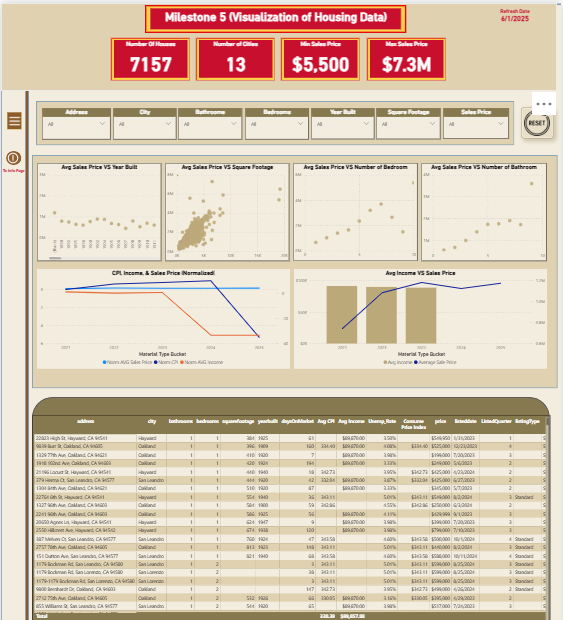

The page's visual inventory and layout, read from the dashboard file:
{"tool":"powerbi","page":{"name":"Milestone 5 House Pricing Analysis","canvas":[1600,2000],"ordinal":0},"visuals":[{"type":"shape","box":[0,0,1588.6,250.1],"z":0,"group":"g11"},{"type":"shape","box":[411.7,6.5,746.5,80.1],"z":0,"group":"g9"},{"type":"shape","box":[314.3,99.1,224,120.9],"z":0,"group":"g6"},{"type":"shape","box":[557.6,99.1,224,120.9],"z":0,"group":"g3"},{"type":"shape","box":[801.2,99.1,224,120.9],"z":0,"group":"g1"},{"type":"shape","box":[1044.7,99.1,224,120.9],"z":0,"group":"g5"},{"type":"shape","box":[99.8,281,1366.5,126.3],"z":0,"group":"g8"},{"type":"shape","box":[87.5,434.4,1501.1,666.3],"z":0},{"type":"actionButton","box":[87.2,1125.7,1479.5,659],"z":0,"group":"g7"},{"type":"textbox","box":[426.9,15.4,717.8,62.2],"z":1000,"group":"g9"},{"type":"group","id":"g1","title":"Group 2","box":[801.2,99.1,224.3,120],"z":1000,"group":"g11"},{"type":"card","title":"Number Of Houses","fields":{"Values":["Count(Combine Project Data.address)"]},"box":[322.1,105.8,210,107.8],"z":1000,"group":"g6"},{"type":"card","title":"Number of Cities","fields":{"Values":["Count(Combine Project Data.city)"]},"box":[565.4,105.8,210,107.8],"z":1000,"group":"g3"},{"type":"card","title":"Min Sales Price","fields":{"Values":["Min(Combine Project Data.price)"]},"box":[809,105.8,210,107.8],"z":1000,"group":"g1"},{"type":"card","title":"Max Sales Price","fields":{"Values":["Max(Combine Project Data.price)"]},"box":[1052.5,105.8,210,107.8],"z":1000,"group":"g5"},{"type":"slicer","title":"Address","fields":{"Values":["Combine Project Data.address"]},"box":[118.1,302.1,195.5,89.6],"z":1000,"group":"g8"},{"type":"actionButton","title":"Menu Button","box":[16,310,42,50],"z":1000},{"type":"group","id":"g2","title":"Group 4","box":[103.6,759.7,723,285.3],"z":1000,"group":"g10"},{"type":"tableEx","fields":{"Values":["Combine Project Data.address","Combine Project Data.city","Combine Project Data.bathrooms","Combine Project Data.bedrooms","Combine Project Data.squarefootage","Combine Project Data.yearbuilt","Combine Project Data.daysOnMarket","Combine Project Data.Avg CPI","Combine Project Data.Avg Income","Combine Project Data.Unemp_Rate","Combine Project Data.CCPI_All_Urban_Consumers","Combine Project Data.price"]},"box":[87.1,1178.3,1480.8,600],"z":1000,"group":"g7"},{"type":"group","id":"g3","title":"Group 2","box":[557.6,99.1,224.3,120],"z":2000,"group":"g11"},{"type":"slicer","title":"Sales Price","fields":{"Values":["Combine Project Data.price"]},"box":[1261.9,302.1,188.3,88],"z":2000,"group":"g8"},{"type":"lineChart","title":"CPI, Income, & Sales Price (Normalized(","fields":{"Category":["Combine Project Data.ListedYear Hierarchy.ListedYear","Combine Project Data.ListedYear Hierarchy.ListedQuarter"],"Y2":["Combine Project Data.Norm AVG Income"],"Y":["Combine Project Data.Norm AVG Sales Price","Combine Project Data.Norm CPI"]},"box":[103.6,759.7,723,285.3],"z":2000,"group":"g2"},{"type":"group","id":"g4","title":"Group 4","box":[838.1,760.3,723,285.3],"z":2000},{"type":"lineClusteredColumnComboChart","title":"Avg Income VS Sales Price","fields":{"Category":["Combine Project Data.ListedYear Hierarchy.ListedYear"],"Y2":["Combine Project Data.Average Sale Price"],"Y":["Combine Project Data.Avg Income"]},"box":[838.1,760.3,723,285.3],"z":2000,"group":"g4"},{"type":"card","title":"Refresh Date","fields":{"Values":["Min(Combine Project Data.RefreshDate)"]},"box":[1354.4,13.2,228.5,44.7],"z":3000,"group":"g11"},{"type":"slicer","title":"City","fields":{"Values":["Combine Project Data.city"]},"box":[319.9,302.1,180.7,89.7],"z":3000,"group":"g8"},{"type":"scatterChart","title":"Avg Sales Price VS Square Footage","fields":{"Y":["Combine Project Data.Average Sale Price"],"X":["Combine Project Data.squarefootage"]},"box":[468.6,456.4,355,280.4],"z":3000},{"type":"group","id":"g5","title":"Group 2","box":[1044.7,99.1,224.3,120],"z":4000,"group":"g11"},{"type":"actionButton","box":[1484.6,297.3,93.7,89.6],"z":4000},{"type":"slicer","title":"Year Built","fields":{"Values":["Combine Project Data.yearbuilt"]},"box":[884.2,302.1,180.7,88.9],"z":4000,"group":"g8"},{"type":"group","id":"g6","title":"Group 2","box":[314.3,99.1,224,120.9],"z":5000,"group":"g11"},{"type":"slicer","title":"Bathroome","fields":{"Values":["Combine Project Data.bathrooms"]},"box":[506.9,302.1,182.7,90.2],"z":5000,"group":"g8"},{"type":"group","id":"g7","title":"Group 1","box":[87.1,1125.7,1481.4,658.6],"z":5000},{"type":"group","id":"g8","title":"Group 3","box":[99.8,281,1366.5,126.3],"z":6000},{"type":"slicer","title":"Bedrooms","fields":{"Values":["Combine Project Data.bedrooms"]},"box":[695.9,302.1,182,90],"z":6000,"group":"g8"},{"type":"group","id":"g9","title":"Group 6","box":[411.7,6.5,748.9,77.8],"z":7000,"group":"g11"},{"type":"slicer","title":"Square Footage","fields":{"Values":["Combine Project Data.squarefootage"]},"box":[1071.2,302.1,184.4,88.9],"z":7000,"group":"g8"},{"type":"group","id":"g10","title":"Group 5","box":[103.6,456.4,1454.3,588.6],"z":7000},{"type":"actionButton","box":[14,424,44,40],"z":8000},{"type":"scatterChart","title":"Avg Sales Price VS Number of Bathroom","fields":{"Y":["Combine Project Data.Average Sale Price"],"X":["Combine Project Data.bedrooms"]},"box":[1199.4,456.4,358.5,280.2],"z":8500},{"type":"group","id":"g11","title":"Group 7","box":[0,0,1588.6,250.1],"z":9000},{"type":"scatterChart","title":"Avg Sales Price VS Number of Bedroom","fields":{"X":["Combine Project Data.bathrooms"],"Y":["Combine Project Data.Average Sale Price"]},"box":[833.5,456.4,356,279.8],"z":10500},{"type":"textbox","box":[0,461.4,82.9,37.1],"z":12000},{"type":"scatterChart","title":"Avg Sales Price VS Year Built","fields":{"Y":["Combine Project Data.Average Sale Price"],"X":["Combine Project Data.yearbuilt"]},"box":[103.7,456.4,355,280.4],"z":13000}]}

Visuals, with their boxes on the page's 1600x2000 design canvas (x1, y1, x2, y2). These are canvas units, not pixel positions in the 563x620 screenshot, which may show the page scaled, cropped or inside an application window:
shape: Rect(0, 0, 1589, 250)
shape: Rect(412, 6, 1158, 87)
shape: Rect(314, 99, 538, 220)
shape: Rect(558, 99, 782, 220)
shape: Rect(801, 99, 1025, 220)
shape: Rect(1045, 99, 1269, 220)
shape: Rect(100, 281, 1466, 407)
shape: Rect(88, 434, 1589, 1101)
actionButton: Rect(87, 1126, 1567, 1785)
textbox: Rect(427, 15, 1145, 78)
"Group 2" group: Rect(801, 99, 1026, 219)
"Number Of Houses" card: Rect(322, 106, 532, 214)
"Number of Cities" card: Rect(565, 106, 775, 214)
"Min Sales Price" card: Rect(809, 106, 1019, 214)
"Max Sales Price" card: Rect(1052, 106, 1262, 214)
"Address" slicer: Rect(118, 302, 314, 392)
"Menu Button" actionButton: Rect(16, 310, 58, 360)
"Group 4" group: Rect(104, 760, 827, 1045)
tableEx - Combine Project Data.address x Combine Project Data.city: Rect(87, 1178, 1568, 1778)
"Group 2" group: Rect(558, 99, 782, 219)
"Sales Price" slicer: Rect(1262, 302, 1450, 390)
"CPI, Income, & Sales Price (Normalized(" lineChart: Rect(104, 760, 827, 1045)
"Group 4" group: Rect(838, 760, 1561, 1046)
"Avg Income VS Sales Price" lineClusteredColumnComboChart: Rect(838, 760, 1561, 1046)
"Refresh Date" card: Rect(1354, 13, 1583, 58)
"City" slicer: Rect(320, 302, 501, 392)
"Avg Sales Price VS Square Footage" scatterChart: Rect(469, 456, 824, 737)
"Group 2" group: Rect(1045, 99, 1269, 219)
actionButton: Rect(1485, 297, 1578, 387)
"Year Built" slicer: Rect(884, 302, 1065, 391)
"Group 2" group: Rect(314, 99, 538, 220)
"Bathroome" slicer: Rect(507, 302, 690, 392)
"Group 1" group: Rect(87, 1126, 1568, 1784)
"Group 3" group: Rect(100, 281, 1466, 407)
"Bedrooms" slicer: Rect(696, 302, 878, 392)
"Group 6" group: Rect(412, 6, 1161, 84)
"Square Footage" slicer: Rect(1071, 302, 1256, 391)
"Group 5" group: Rect(104, 456, 1558, 1045)
actionButton: Rect(14, 424, 58, 464)
"Avg Sales Price VS Number of Bathroom" scatterChart: Rect(1199, 456, 1558, 737)
"Group 7" group: Rect(0, 0, 1589, 250)
"Avg Sales Price VS Number of Bedroom" scatterChart: Rect(834, 456, 1190, 736)
textbox: Rect(0, 461, 83, 498)
"Avg Sales Price VS Year Built" scatterChart: Rect(104, 456, 459, 737)
